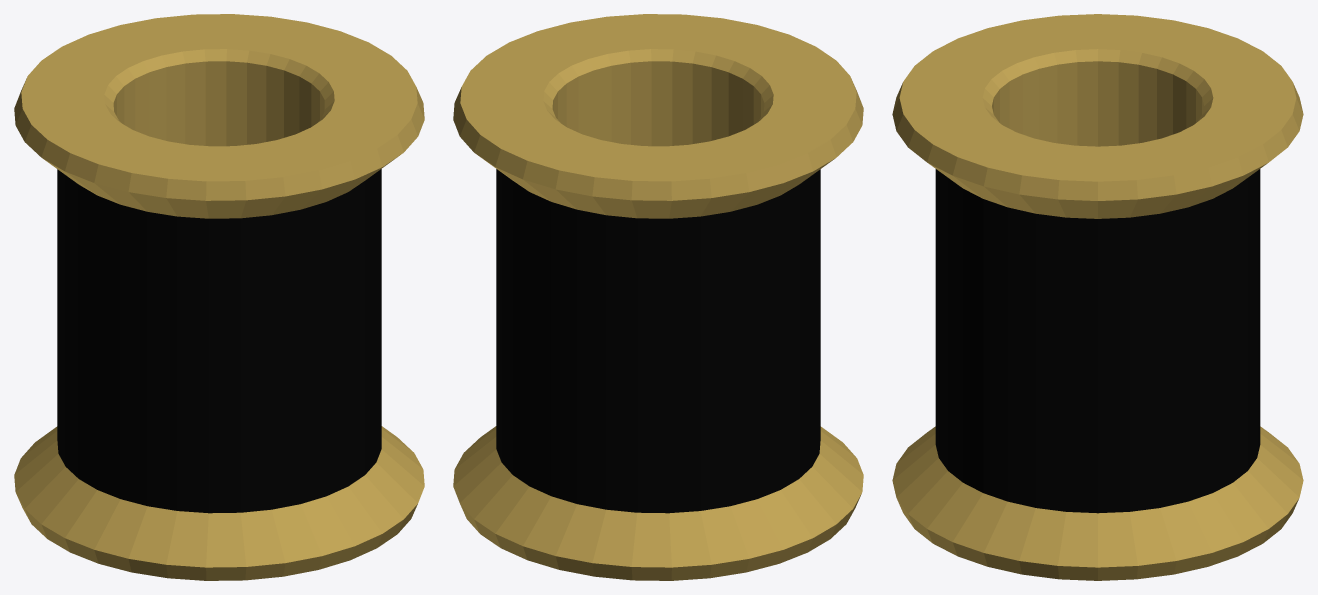
The model's file is ThreadSpool.fbx.
The picture shows the model from 3 angles, left to right: view 1: azimuth 30°, elevation 25°; view 2: azimuth 150°, elevation 25°; view 3: azimuth 270°, elevation 25°; orthographic projection.
Parts seen in each view (by area): view 1: Spool; view 2: Spool; view 3: Spool.
Boxes of the visible parts, bbox=[...] form: Spool: bbox=[14, 14, 424, 580]; Spool: bbox=[453, 14, 863, 580]; Spool: bbox=[892, 14, 1303, 580].
Size of the model in its own units: 253 by 271 by 253.
